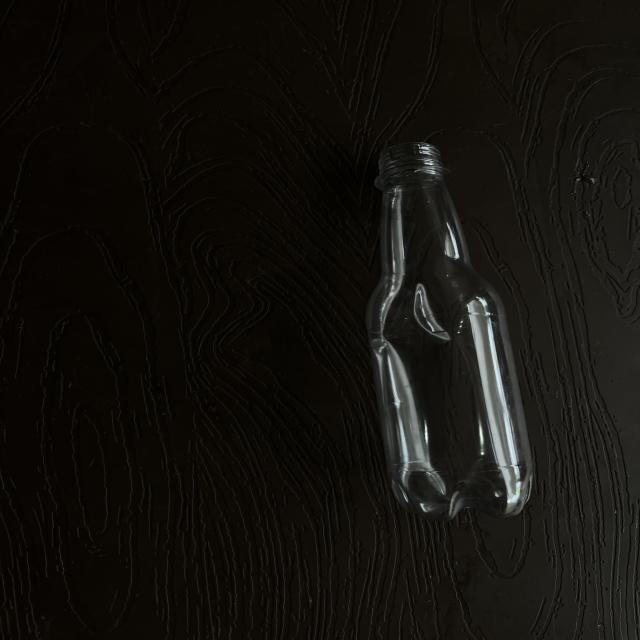PET_ClearBottle: (354, 134, 592, 532)
